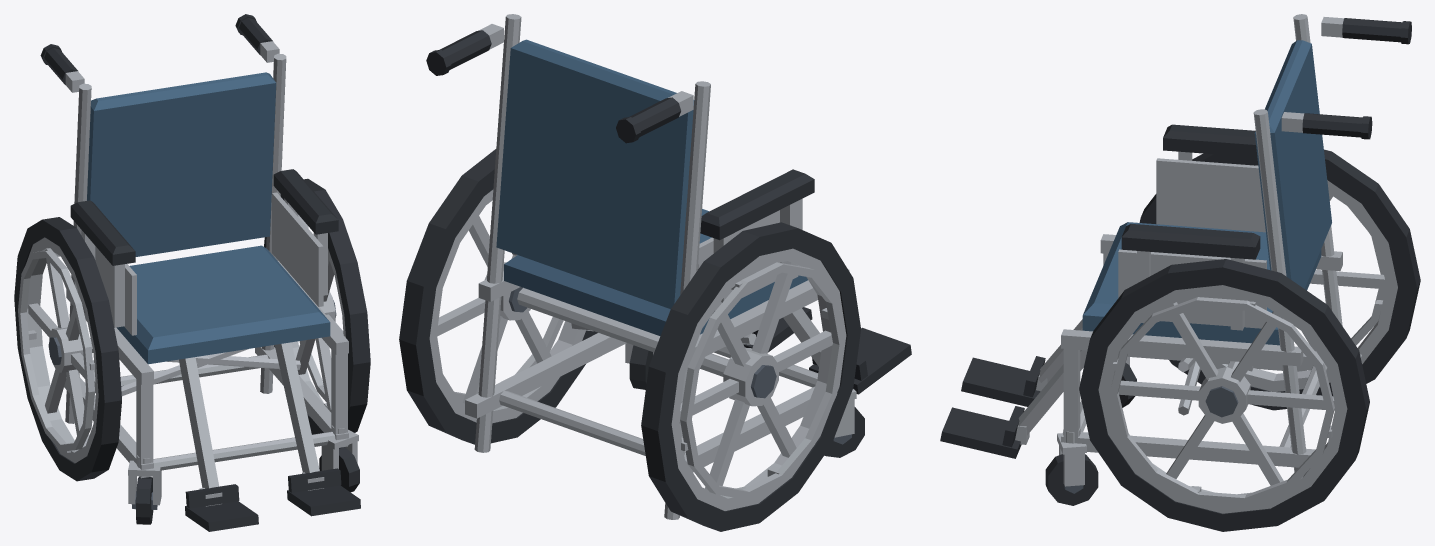
File: wheelchair.fbx
3 views of the same model, side by side, from view 1: azimuth 30°, elevation 25°; view 2: azimuth 150°, elevation 25°; view 3: azimuth 270°, elevation 25° (orthographic). The views are drawn at different scales.
Visible parts, largest first — view 1: Tire_L; view 2: Tire_L; view 3: Tire_L.
Part boxes in pixels (x1=…): Tire_L: x1=14, y1=14, x2=370, y2=531; Tire_L: x1=399, y1=14, x2=911, y2=531; Tire_L: x1=940, y1=14, x2=1420, y2=531.
Bounding box in the file's own units: 74.31 × 92.5 × 98.78.
